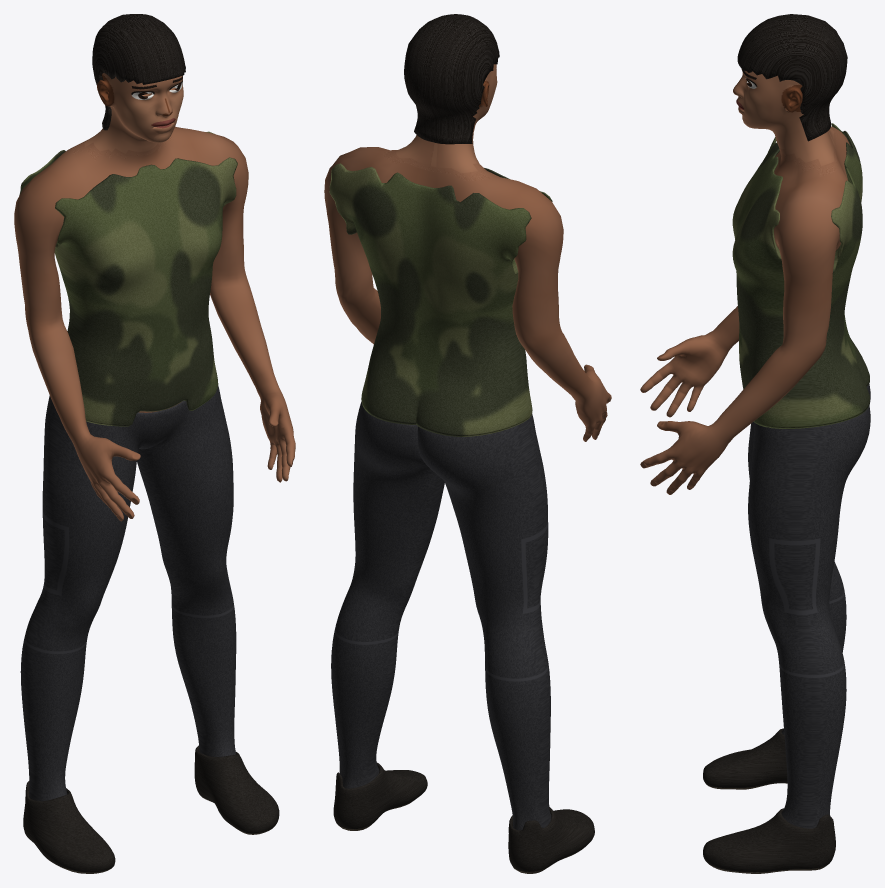
Rendered from charA.glb.
3 renders of one model, left to right at view 1: azimuth 30°, elevation 25°; view 2: azimuth 150°, elevation 25°; view 3: azimuth 270°, elevation 25°, orthographic. The views are drawn at different scales.
Parts seen in each view (by area): view 1: pants, shirt, Human, shoes, hair; view 2: pants, shirt, Human, hair, shoes; view 3: pants, Human, shirt, shoes, hair.
Part boxes in pixels (bbox=[...]): pants: bbox=[20, 385, 236, 801]; shirt: bbox=[19, 131, 237, 426]; Human: bbox=[14, 73, 295, 521]; shoes: bbox=[23, 745, 279, 873]; hair: bbox=[92, 14, 185, 130]; pants: bbox=[331, 401, 551, 830]; shirt: bbox=[329, 163, 552, 436]; Human: bbox=[324, 64, 611, 441]; hair: bbox=[404, 14, 499, 144]; shoes: bbox=[333, 762, 594, 873]; pants: bbox=[748, 384, 870, 828]; Human: bbox=[640, 69, 850, 494]; shirt: bbox=[732, 123, 869, 428]; shoes: bbox=[703, 728, 835, 873]; hair: bbox=[737, 14, 847, 141].
Size of the model in its own units: 0.4942 by 1.68 by 0.4343.
Materials: 5 (5 with a texture image).
